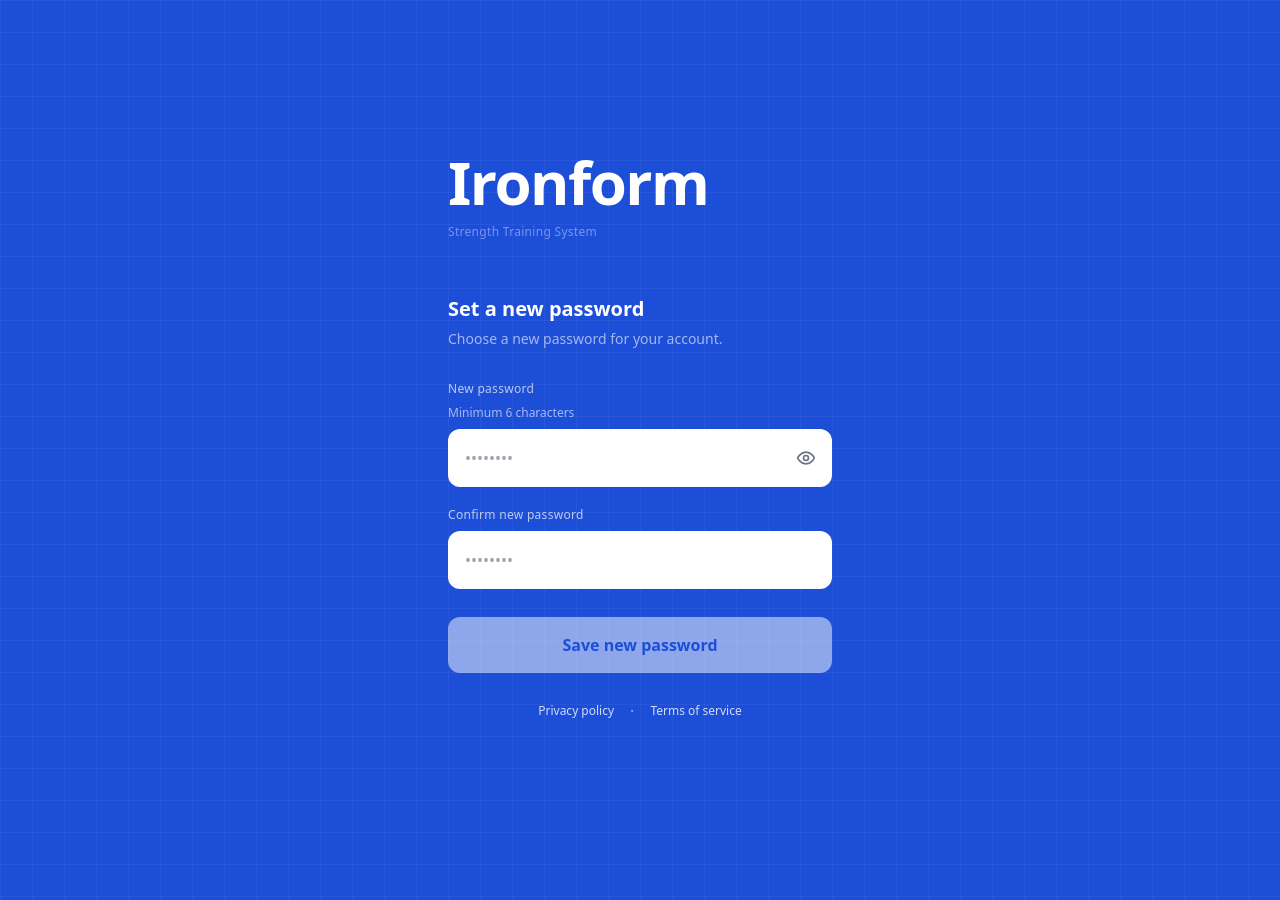
Test case: ResetPasswordForm › does not clear recovery mode when the update fails
Type "newpassword1" into the password field labelled "New password".
click(640, 458); type("newpassword1")  # box [448,428,832,486]
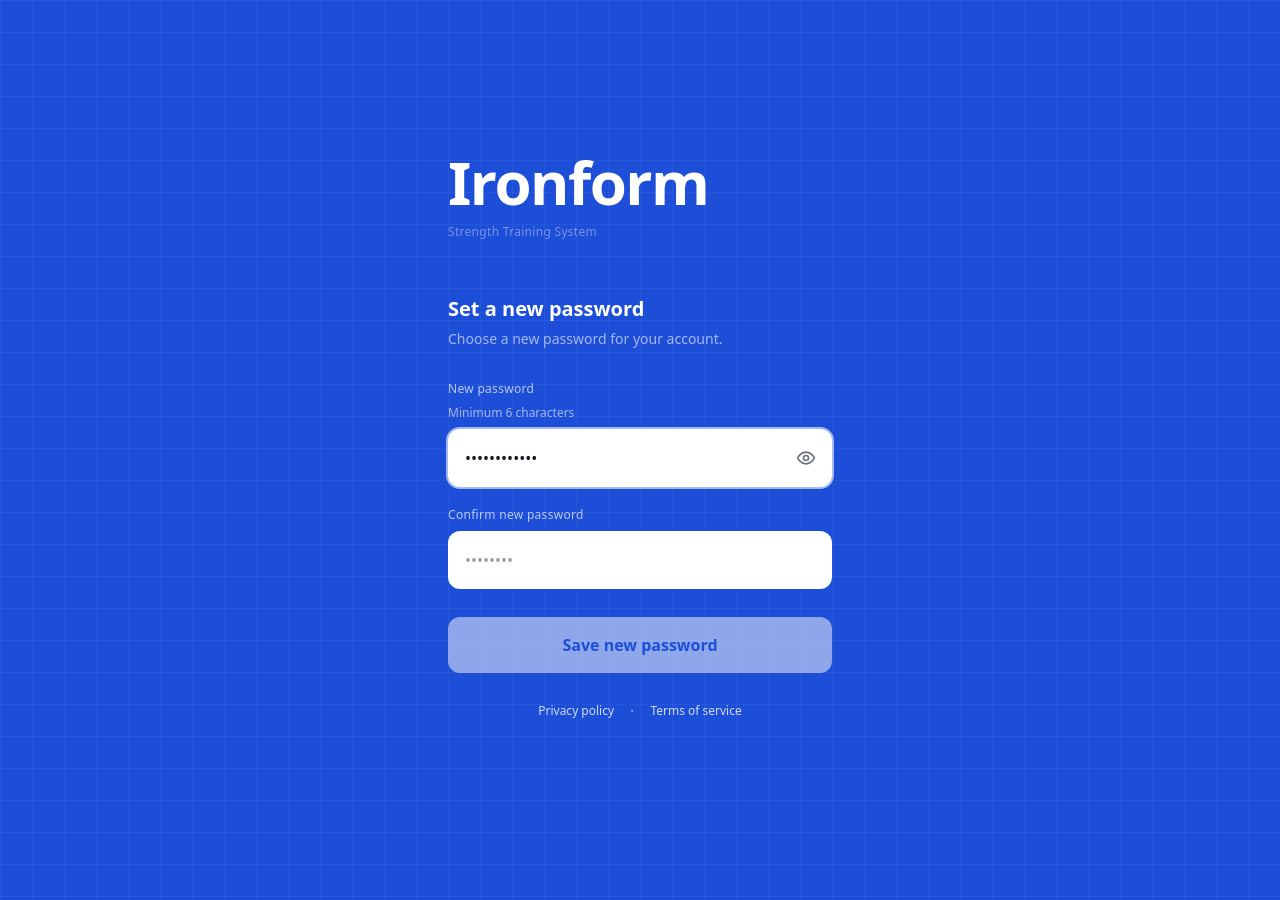
Type "newpassword1" into the password field labelled "Confirm new password".
click(640, 560); type("newpassword1")  # box [448,530,832,588]
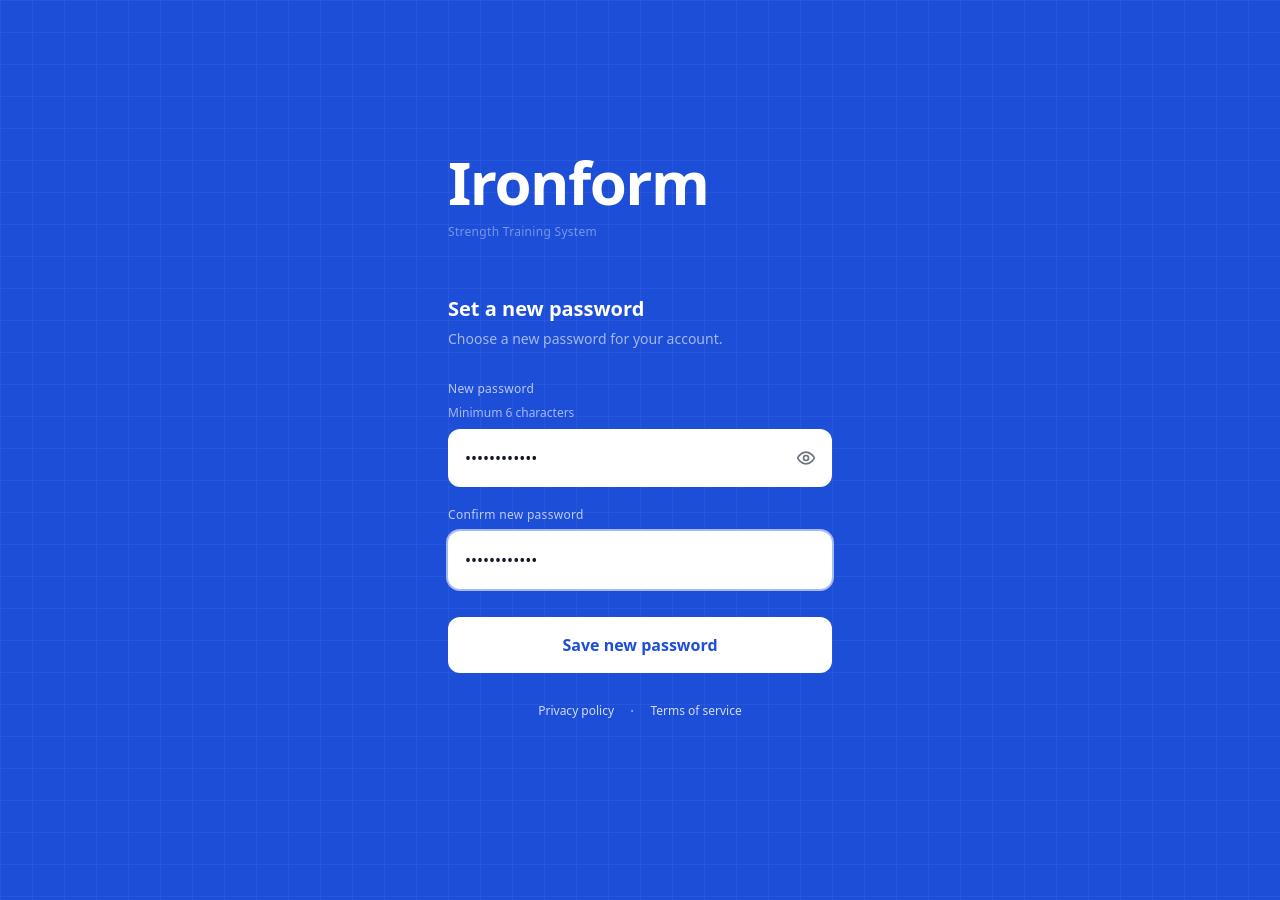
Click the button "Save new password".
click(640, 644)  # box [448,616,832,672]
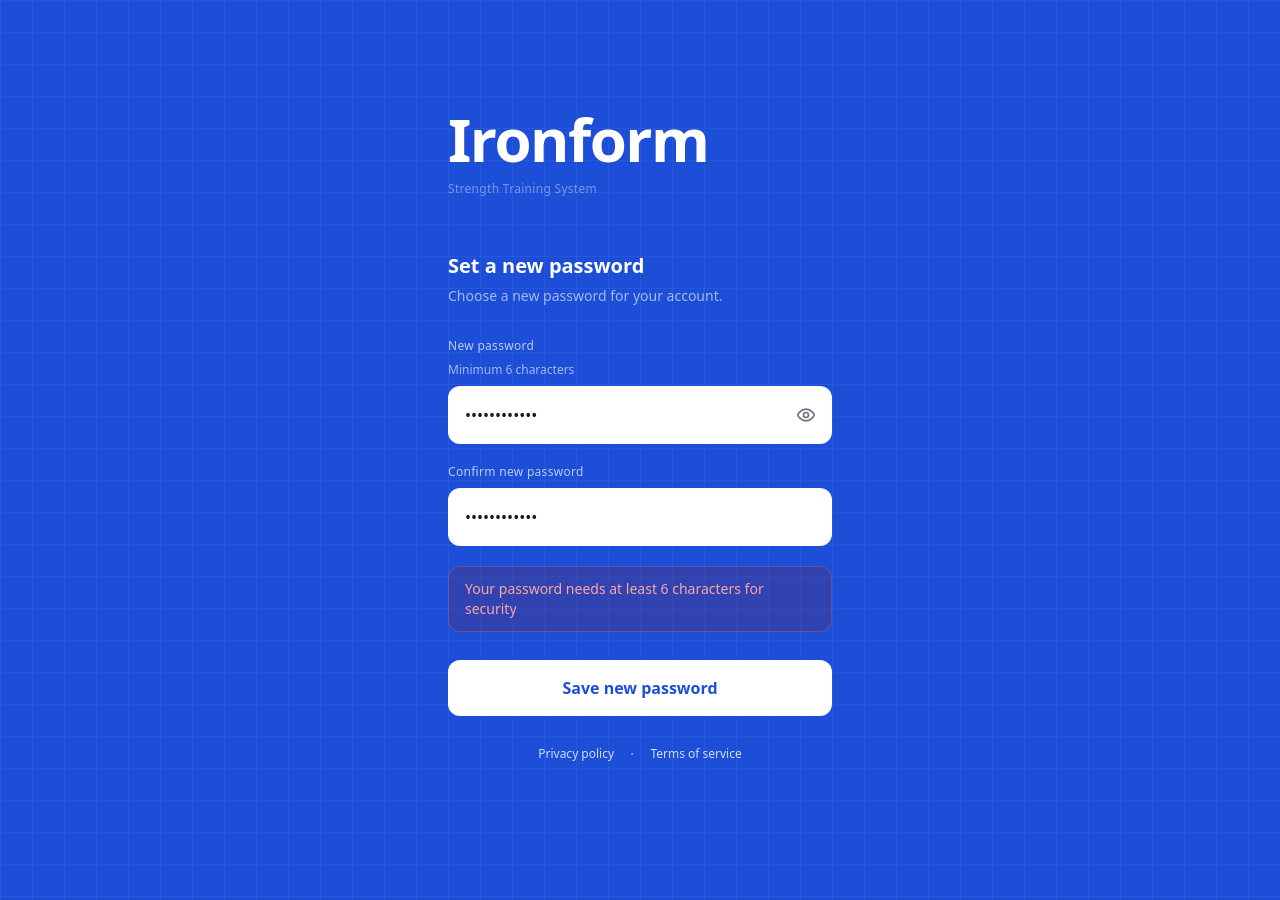
Expected: the text "Your password needs at least 6 characters for security" is shown, [448,566,832,632]
